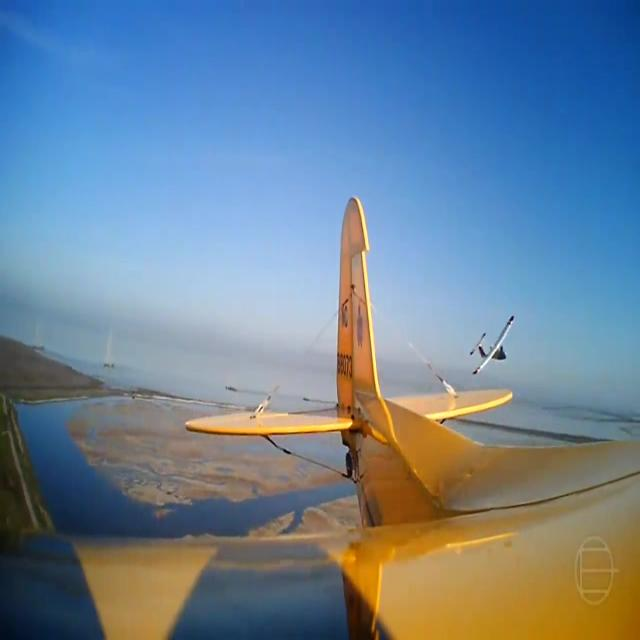iha: (465, 345, 518, 347)
